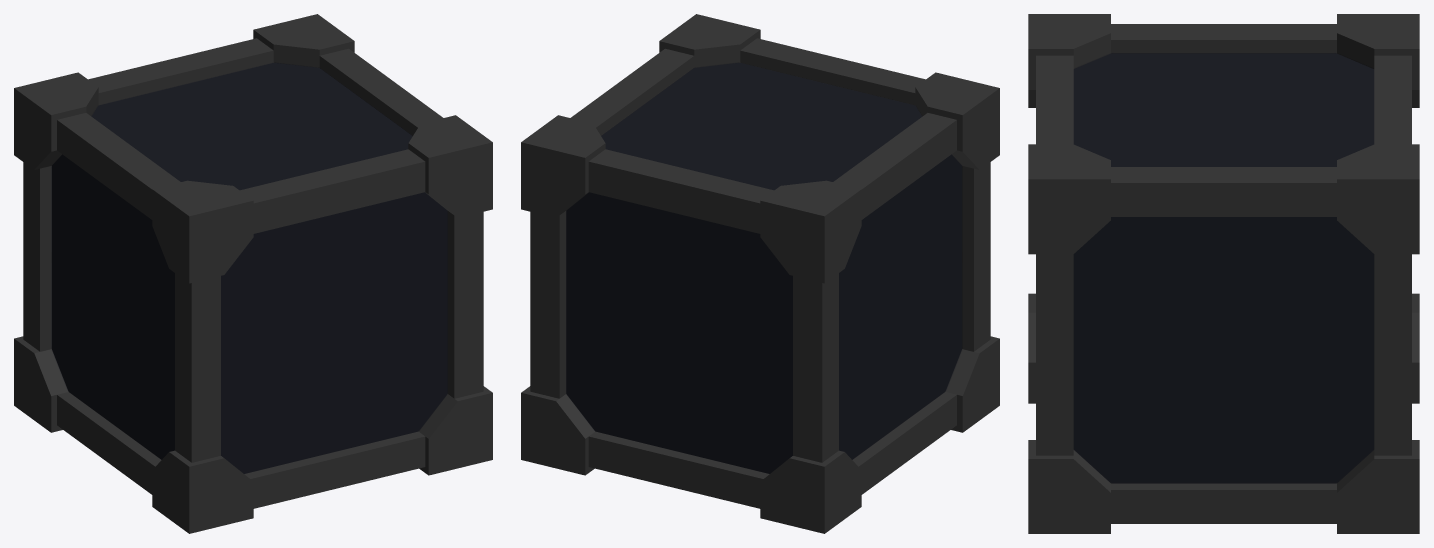
3 renders of one model, left to right at view 1: azimuth 30°, elevation 25°; view 2: azimuth 150°, elevation 25°; view 3: azimuth 270°, elevation 25°, orthographic. The views are drawn at different scales.
Visible parts, largest first — view 1: cube; view 2: cube; view 3: cube.
Boxes of the visible parts, x1,y1,x2,y2 form: cube: (14,14,492,533); cube: (521,14,999,533); cube: (1028,14,1419,533).
Bounding box in the file's own units: 5.2 × 5.2 × 5.2.
Materials: 1 (1 with a texture image).
